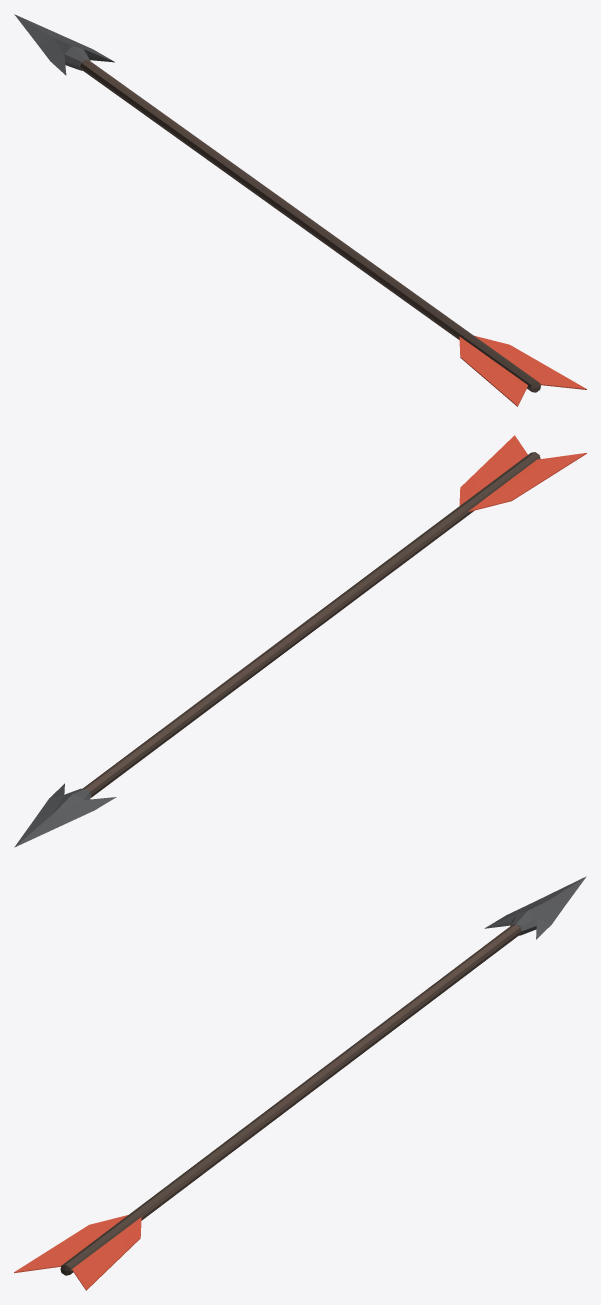
The model's file is Arrow_001.glb.
3 views of the same model, one above another, from view 1: azimuth 30°, elevation 25°; view 2: azimuth 150°, elevation 25°; view 3: azimuth 330°, elevation 25° (orthographic). The views are drawn at different scales.
Visible parts, largest first — view 1: Arrow.001; view 2: Arrow.001; view 3: Arrow.001.
Part boxes in pixels (x1=…): Arrow.001: x1=14, y1=14, x2=586, y2=406; Arrow.001: x1=14, y1=435, x2=586, y2=847; Arrow.001: x1=14, y1=876, x2=586, y2=1290.
Bounding box in the file's own units: 0.1125 × 0.03 × 1.48.
1 material, 1 textured.
